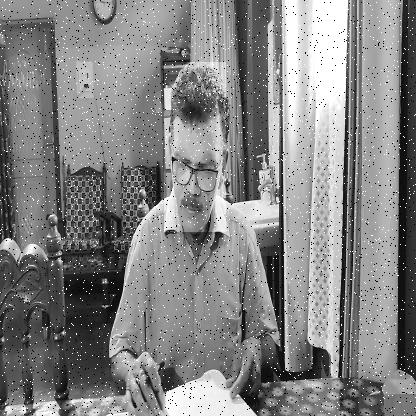Normal: (164, 63, 226, 233)
